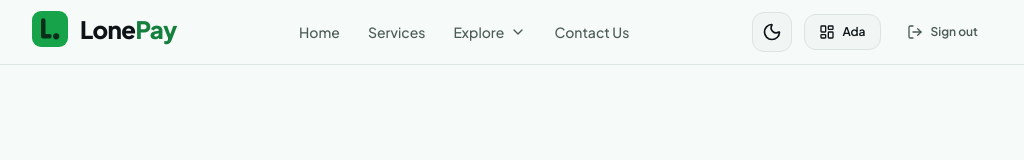
Test: SiteHeader sign out › reports a failure and keeps the user signed in when logout fails
This screenshot has width=1024, height=160.
Click the button "Sign out" at (942, 32), box x1=892 y1=14 x2=992 y2=50
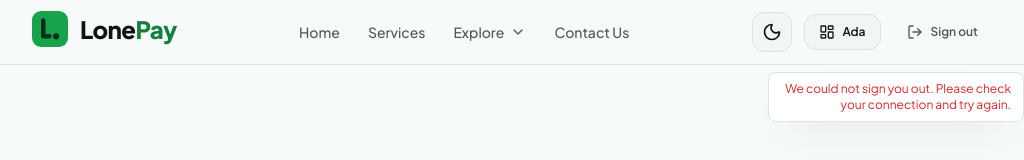
Now the message shows "could not sign you out", box x1=785 y1=81 x2=1011 y2=112
